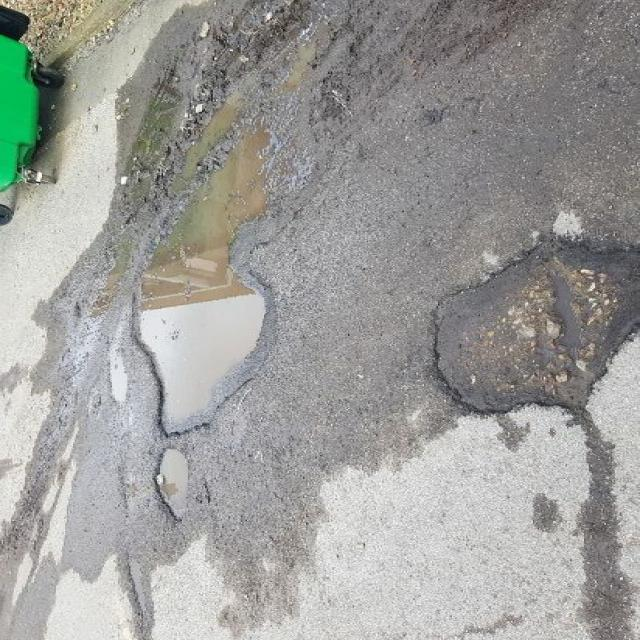Pothole: (119, 105, 287, 441), (419, 240, 638, 425), (139, 446, 206, 528)
